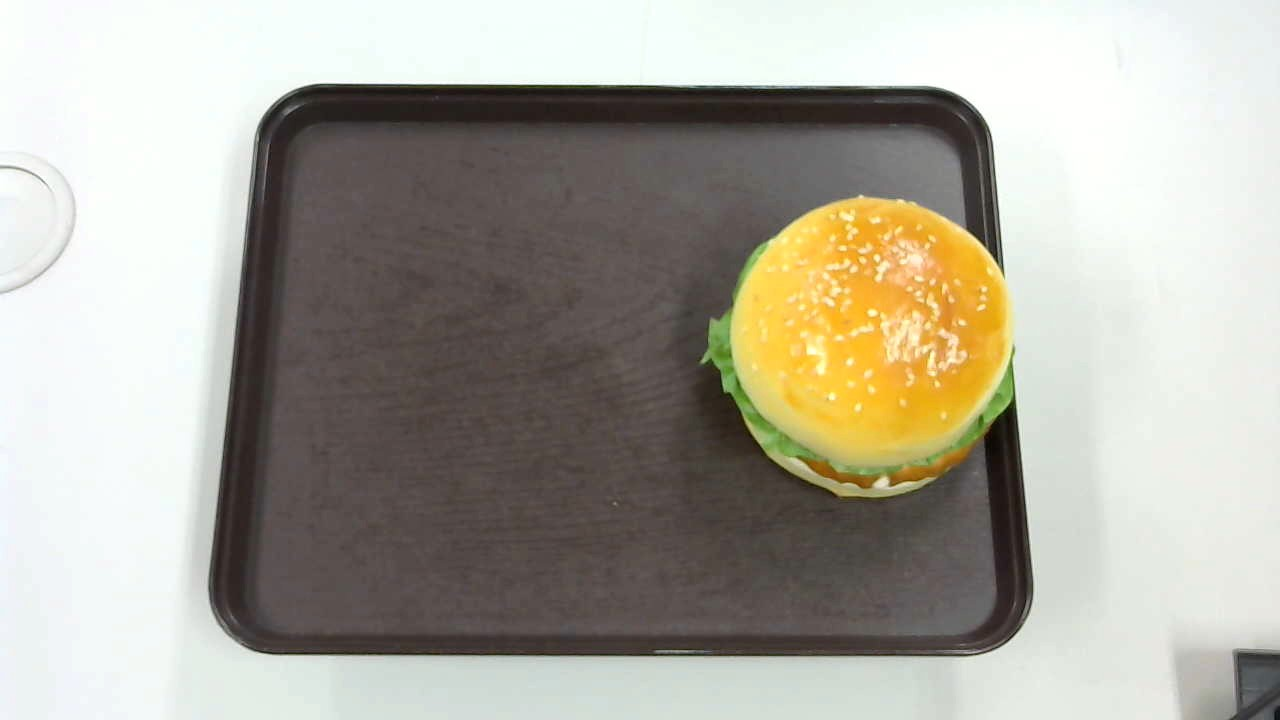hamburger: (699, 193, 1015, 498)
